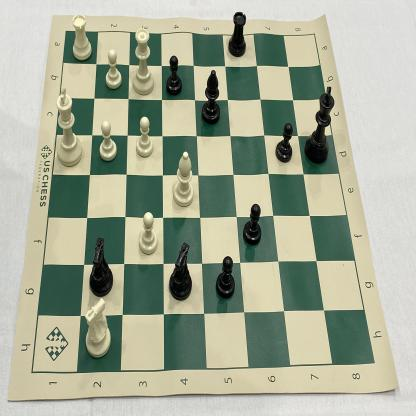black-bishop: (199, 65, 223, 127)
black-king: (303, 80, 337, 165)
black-knight: (84, 233, 115, 298), (167, 240, 194, 304)
black-pawn: (212, 251, 237, 302), (240, 201, 264, 249), (273, 119, 295, 166), (165, 49, 185, 98)
black-rook: (225, 6, 250, 60)
white-bishop: (170, 149, 195, 211)
white-king: (55, 85, 85, 170)
white-knight: (81, 294, 114, 361)
white-pawn: (133, 112, 156, 162), (136, 208, 159, 258), (98, 116, 118, 164), (103, 46, 123, 93)
white-queen: (131, 25, 156, 98)
white-rook: (68, 10, 95, 66)
